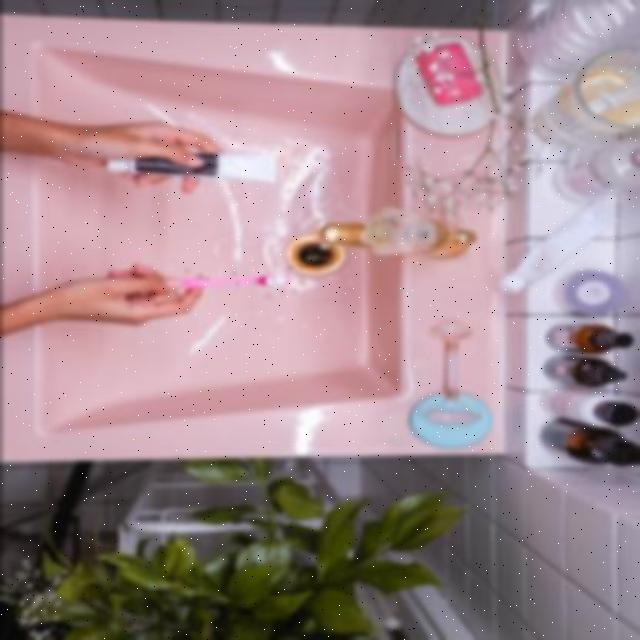toothbrush: (152, 266, 302, 296)
